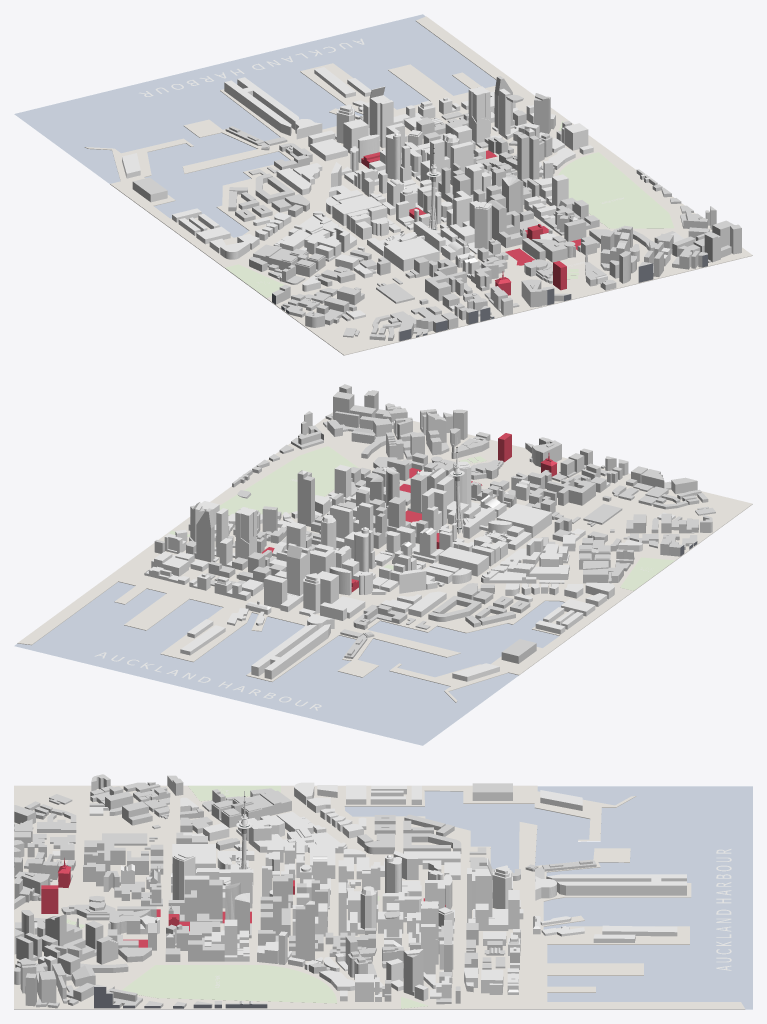
Rendered from auckland.glb.
The picture shows the model from 3 angles, top to bottom: view 1: azimuth 30°, elevation 25°; view 2: azimuth 150°, elevation 25°; view 3: azimuth 270°, elevation 25°; orthographic projection. The views are drawn at different scales.
Visible parts, largest first — view 1: Geom3D.050, Geom3D.049, Geom3D_The City.001, Geom3D_.003, Geom3D_.008, Geom3D.001, Geom3D.020, Geom3D.010, Geom3D_.014, Geom3D.013, Geom3D.008, Geom3D.044 (+18 smaller); view 2: Geom3D.050, Geom3D.049, Geom3D_The City.001, Geom3D_.003, Geom3D_.008, Geom3D.001, Geom3D.020, Geom3D.013, Geom3D.017, Geom3D.044, Geom3D_.014, Geom3D.008 (+14 smaller); view 3: Geom3D.050, Geom3D.049, Geom3D_The City.001, Geom3D_.003, Geom3D.001, Geom3D.020, Geom3D.010, Geom3D_.008, Geom3D.008, Geom3D_.014, Geom3D.044, Geom3D.013 (+23 smaller).
Part boxes in pixels (x1,y1,x2,y2): Geom3D.050: (14, 14, 496, 237); Geom3D.049: (84, 16, 752, 355); Geom3D_The City.001: (272, 169, 741, 341); Geom3D_.003: (225, 76, 599, 279); Geom3D_.008: (332, 179, 488, 271); Geom3D.001: (558, 121, 674, 279); Geom3D.020: (224, 67, 371, 139); Geom3D.010: (427, 88, 593, 199); Geom3D_.014: (253, 244, 390, 286); Geom3D.013: (344, 123, 424, 189); Geom3D.008: (408, 105, 572, 222); Geom3D.044: (273, 211, 372, 278); Geom3D.050: (14, 582, 564, 745); Geom3D.049: (17, 412, 752, 702); Geom3D_The City.001: (232, 384, 715, 556); Geom3D_.003: (154, 467, 630, 658); Geom3D_.008: (385, 476, 551, 576); Geom3D.001: (164, 446, 486, 571); Geom3D.020: (180, 600, 334, 679); Geom3D.013: (310, 527, 405, 595); Geom3D.017: (264, 544, 365, 620); Geom3D.044: (481, 528, 585, 583); Geom3D_.014: (541, 516, 634, 583); Geom3D.008: (164, 464, 369, 571); Geom3D.050: (345, 786, 752, 1009); Geom3D.049: (14, 785, 745, 1009); Geom3D_The City.001: (14, 774, 267, 1008); Geom3D_.003: (165, 788, 596, 1004); Geom3D.001: (66, 896, 428, 1008); Geom3D.020: (533, 874, 686, 942); Geom3D.010: (257, 903, 443, 1001); Geom3D_.008: (171, 842, 335, 909); Geom3D.008: (204, 891, 454, 999); Geom3D_.014: (176, 789, 291, 850); Geom3D.044: (178, 815, 347, 853); Geom3D.013: (382, 855, 454, 922).
Bounding box in the file's own units: 53.25 × 11.82 × 74.46.
14 materials, 2 textured.
